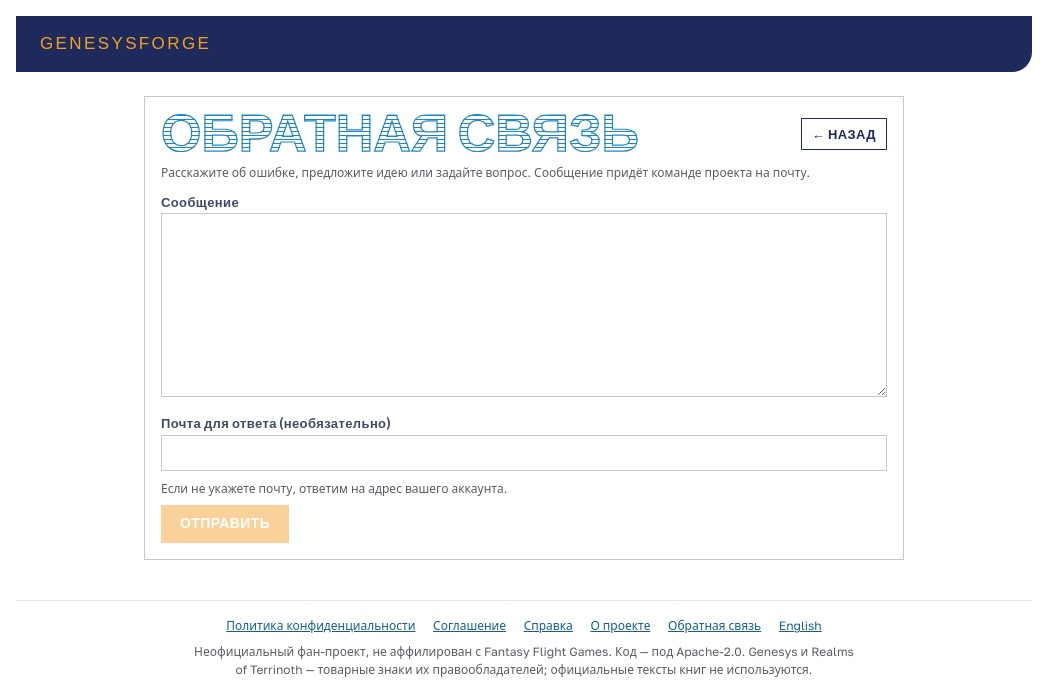
Test: FeedbackPage › sends the message with the page it was opened from and thanks the user
The width and height of the screenshot is (1049, 694).
Type "Не открывается магазин" into the text box labelled "Сообщение". click: (524, 305)
box: [161, 213, 887, 397]
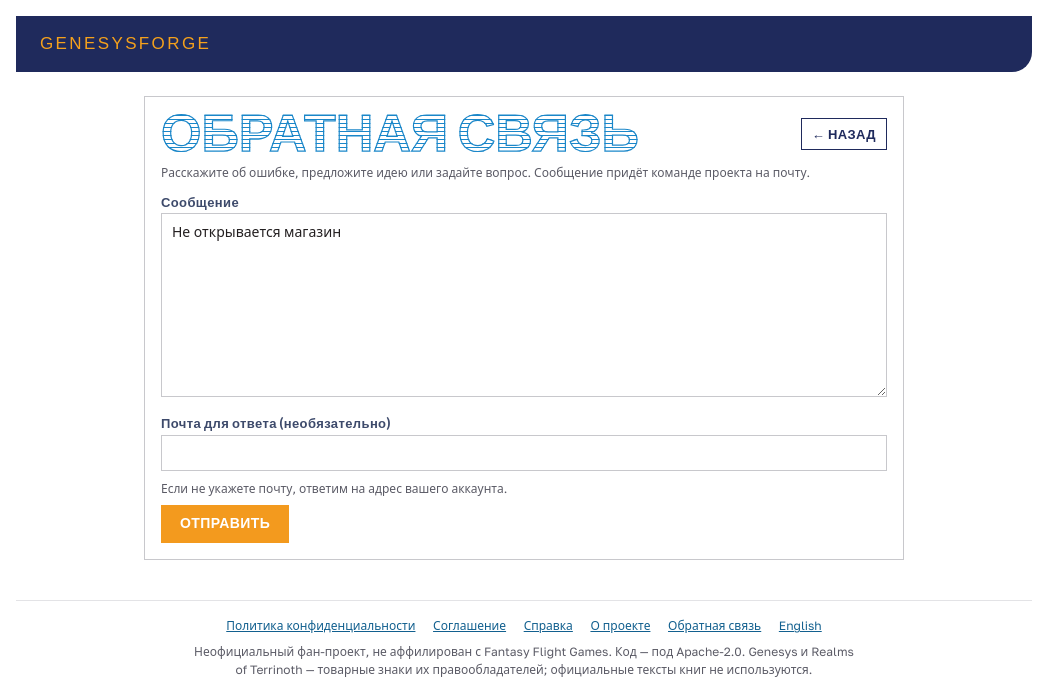
Type "me@example.com" into the field labelled "Почта для ответа (необязательно)". click: (524, 453)
box: [161, 435, 887, 471]
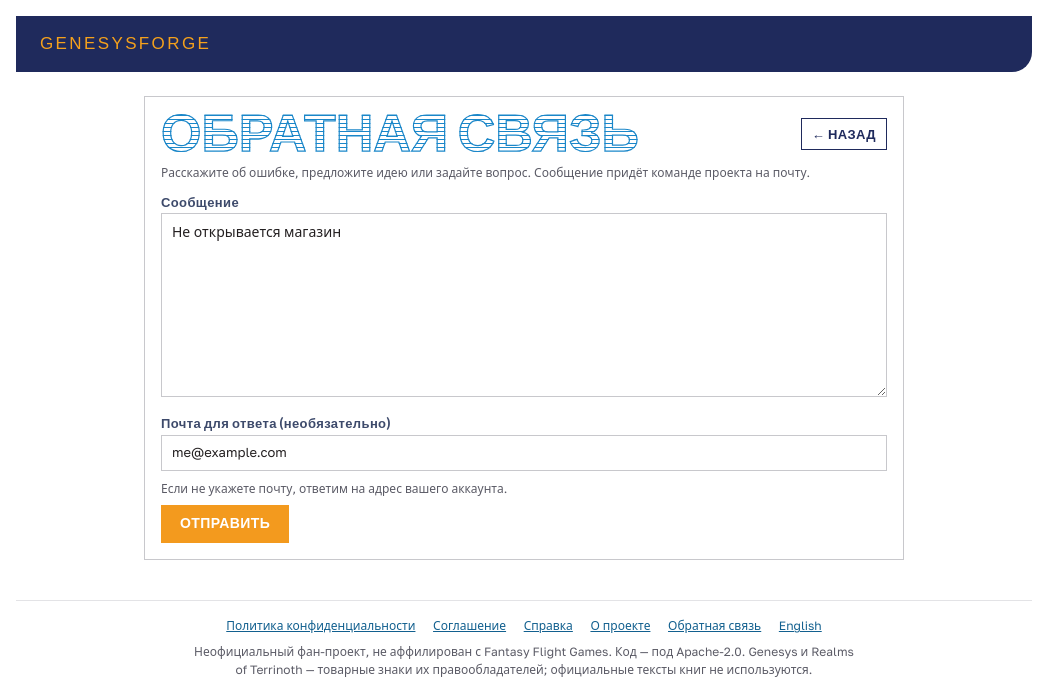
Click the button "Отправить". click: (225, 524)
box: [161, 505, 289, 544]
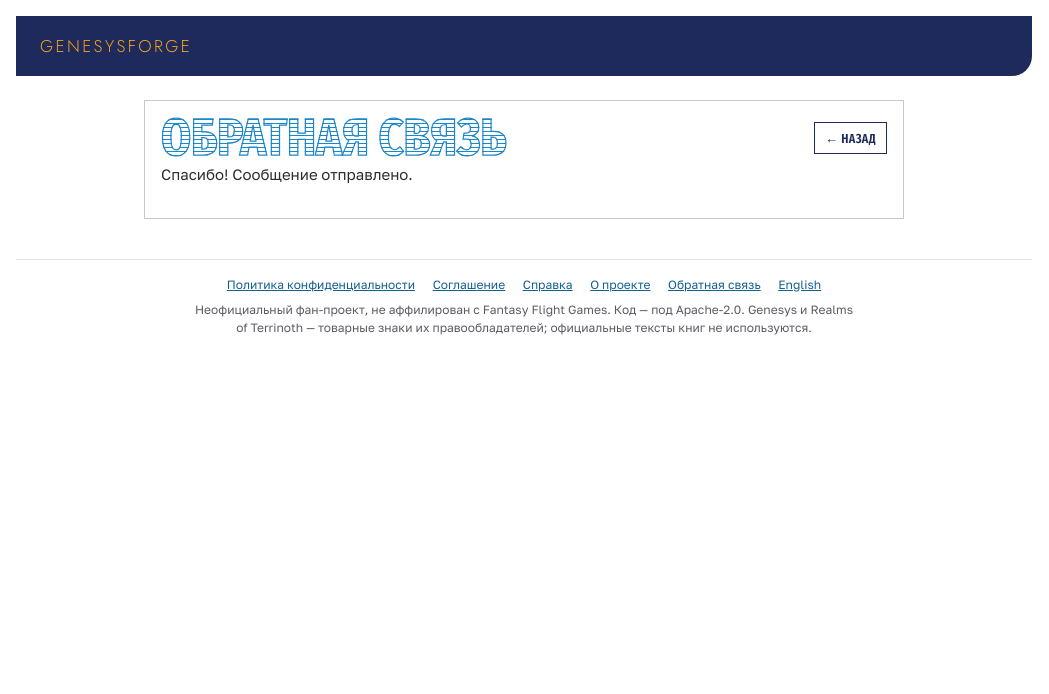
expect the text "Спасибо! Сообщение отправлено." is shown: met, box [161, 165, 413, 183]
